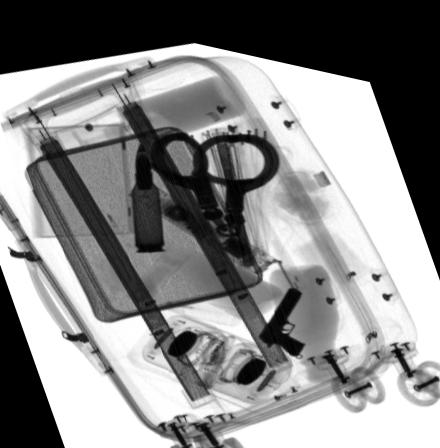Baton: (126, 167, 275, 263)
Bullet: (130, 137, 165, 245)
Gun: (257, 272, 307, 341)
HandCuffs: (148, 120, 279, 255)
